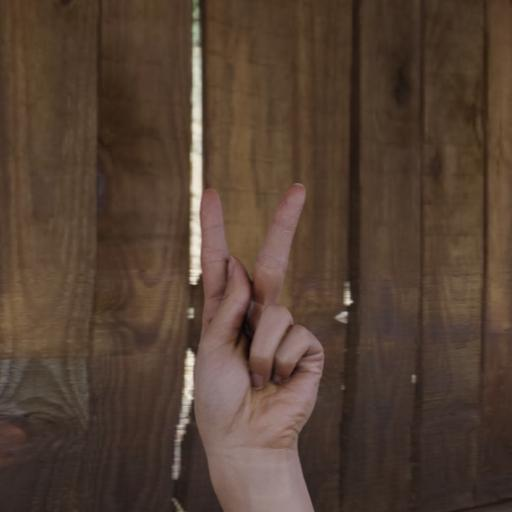K: (166, 160, 423, 502)
